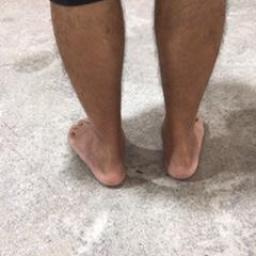Back View -Both Feet-: (60, 68, 216, 192)
